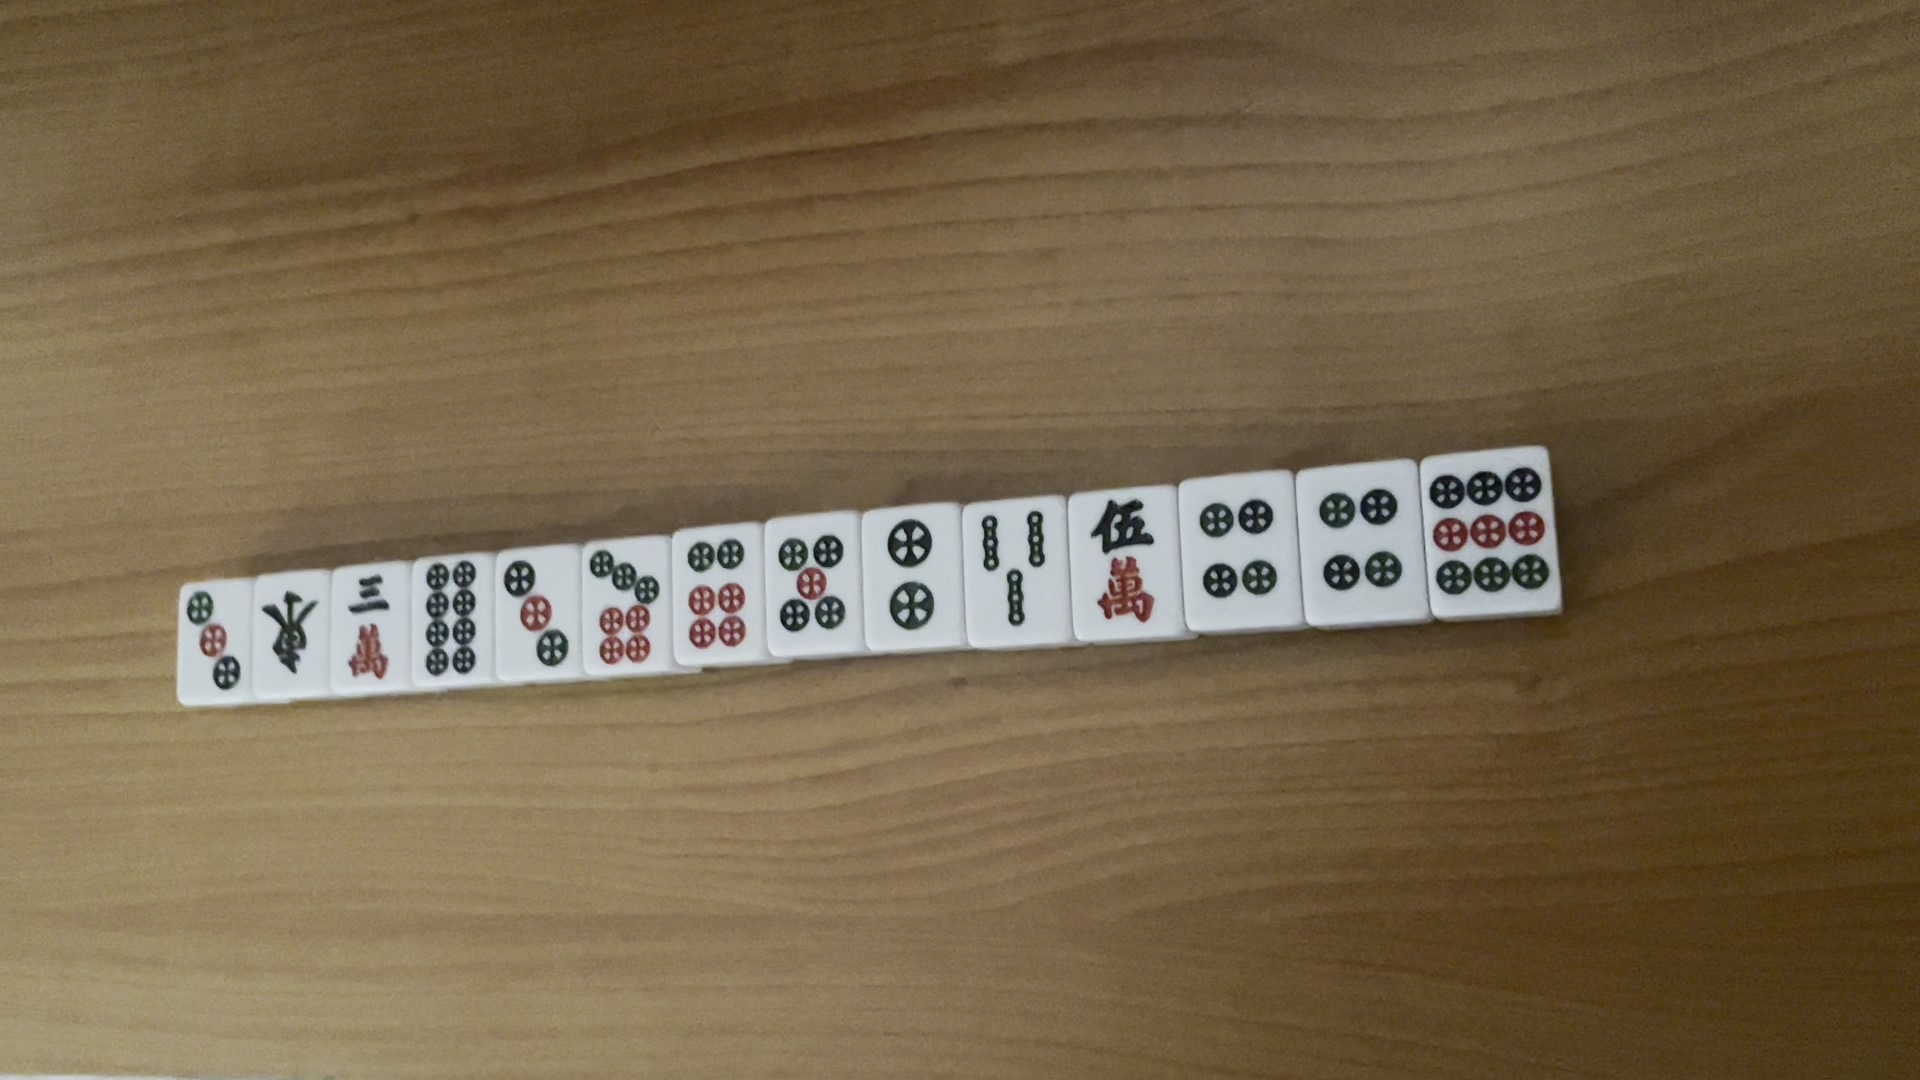b-3: (976, 508, 1051, 632)
c-3: (339, 572, 400, 686)
c-5: (1084, 493, 1164, 626)
d-2: (884, 517, 947, 638)
d-3: (495, 559, 570, 675), (185, 588, 241, 702)
d-4: (1193, 488, 1286, 604), (1315, 483, 1406, 595)
d-5: (767, 534, 851, 644)
d-6: (684, 541, 749, 655)
d-7: (580, 550, 667, 666)
d-8: (418, 559, 487, 682)
d-9: (1425, 465, 1552, 604)
honors-east: (258, 588, 320, 684)
